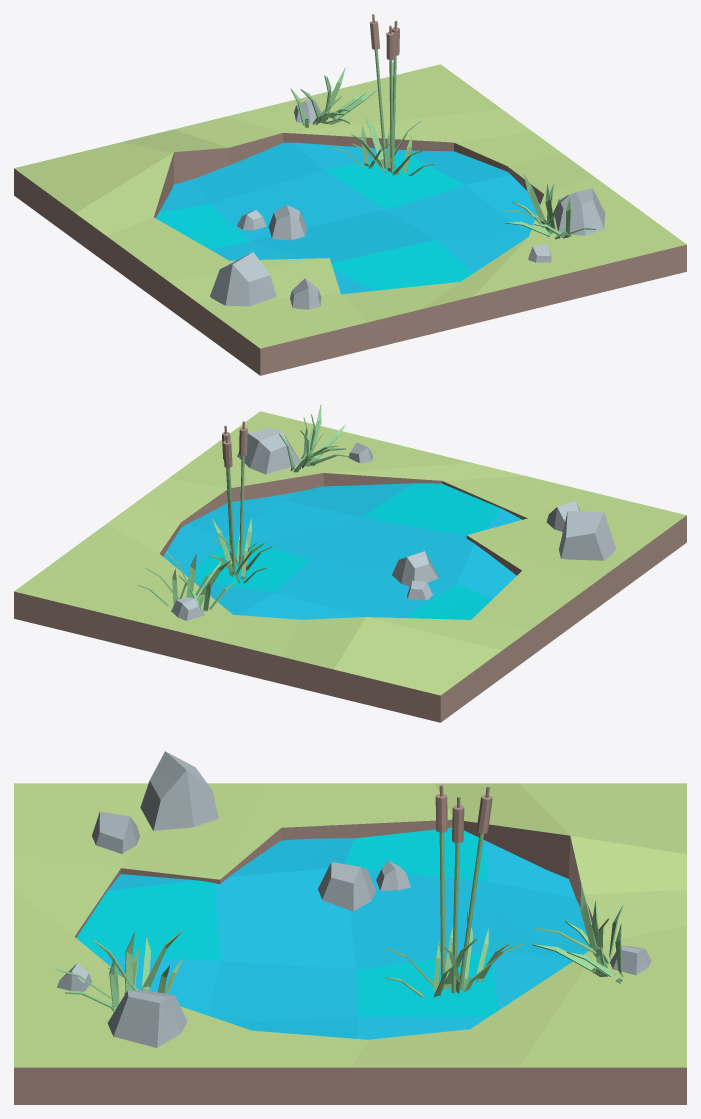
Rendered from pond_02.gltf.
The picture shows the model from 3 angles, top to bottom: view 1: azimuth 30°, elevation 25°; view 2: azimuth 150°, elevation 25°; view 3: azimuth 270°, elevation 25°; orthographic projection. The views are drawn at different scales.
Parts seen in each view (by area): view 1: node-0; view 2: node-0; view 3: node-0.
Part boxes in pixels (box(x1,y1,x2,y2)): node-0: box(14, 14, 686, 375); node-0: box(14, 404, 686, 722); node-0: box(14, 751, 686, 1104).
Bounding box in the file's own units: 200 × 73.87 × 200.
